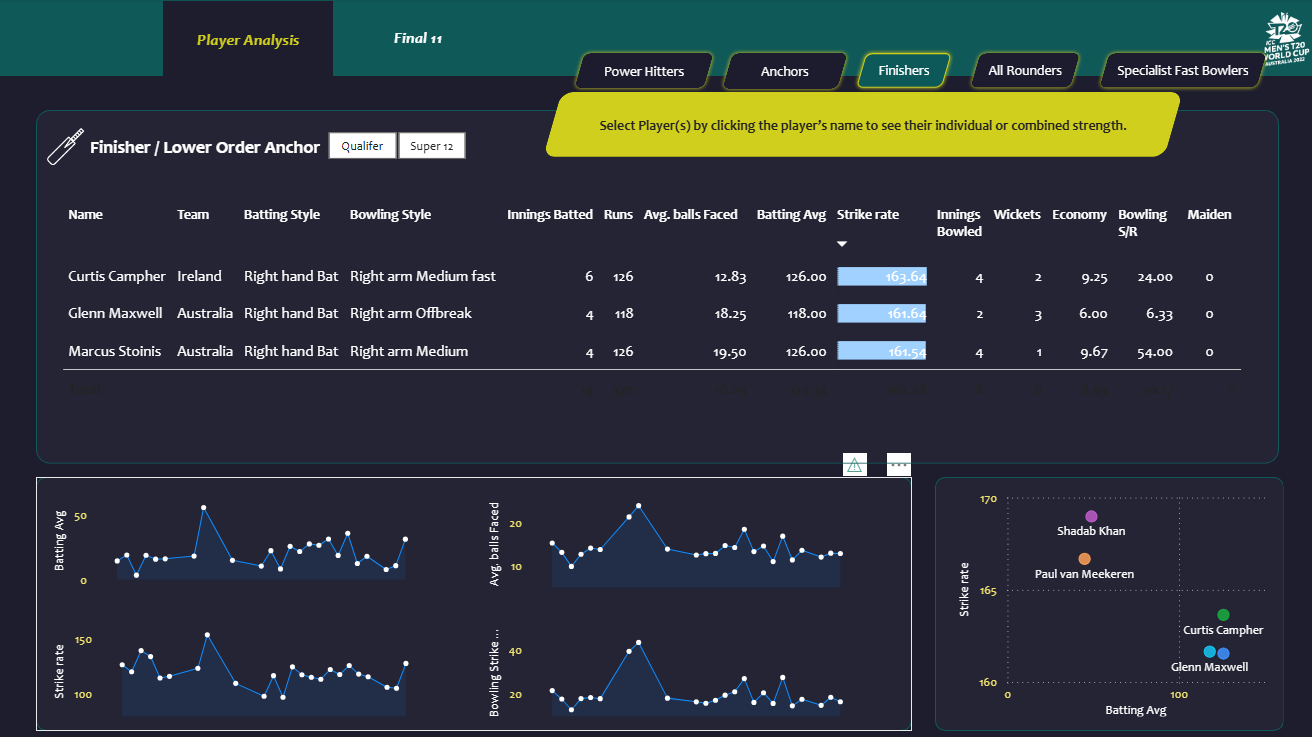

What the dashboard file says about the page in this screenshot:
{"tool":"powerbi","page":{"name":"Finisher / Lower Order Anchor","canvas":[1280,720],"ordinal":2},"visuals":[{"type":"shape","box":[0,75,1280,645],"z":0},{"type":"group","id":"g1","title":"Group 2","box":[90.8,127.2,260.2,31.2],"z":0,"group":"g2"},{"type":"shape","box":[90.8,127.2,260.2,31.2],"z":0,"group":"g1"},{"type":"image","box":[45,125,44,36],"z":1000,"group":"g2"},{"type":"shape","box":[38,465,852,247],"z":1000},{"type":"shape","box":[38,108,1209,344],"z":2000},{"type":"slicer","fields":{"Values":["dim_match_summary.stage"]},"box":[297,123,183,40],"z":3000},{"type":"group","id":"g2","title":"Group 1","box":[45,125,306,36],"z":4000},{"type":"shape","box":[531.1,90.5,622.5,63.2],"z":5000},{"type":"card","fields":{"Values":["key_measures.Batting Avg 2"]},"box":[755,103.8,107,59],"z":6000},{"type":"card","fields":{"Values":["key_measures.Boundary %"]},"box":[935,103.8,112,59],"z":7000},{"type":"card","fields":{"Values":["key_measures.Strike rate"]},"box":[834,103.8,121,59],"z":8000},{"type":"card","fields":{"Values":["key_measures.Avg. balls Faced"]},"box":[1034,103.8,99,59],"z":9000},{"type":"shape","box":[575,119,198,31],"z":10000},{"type":"actionButton","box":[557,48.8,144,42],"z":11000},{"type":"shape","box":[912.3,464.9,339.5,247.1],"z":12000},{"type":"areaChart","fields":{"Category":["dim_match_summary.matchDate.Variation.Date Hierarchy.Day"],"Y":["key_measures.Batting Avg"]},"box":[51,475,399,103],"z":13000},{"type":"areaChart","fields":{"Category":["dim_match_summary.matchDate.Variation.Date Hierarchy.Day"],"Y":["key_measures.Avg. balls Faced"]},"box":[474,475,399,103],"z":14000},{"type":"areaChart","fields":{"Category":["dim_match_summary.matchDate.Variation.Date Hierarchy.Day"],"Y":["key_measures.Strike rate"]},"box":[51,597,399,106],"z":15000},{"type":"areaChart","fields":{"Category":["dim_match_summary.matchDate.Variation.Date Hierarchy.Day"],"Y":["key_measures.Bowling Strike Rate"]},"box":[474,597,399,106],"z":16000},{"type":"image","box":[1228,10,48,59],"z":17000},{"type":"actionButton","title":"Button Player Ana selected","box":[161,2,166,75],"z":18000},{"type":"actionButton","title":"Button Player Ana selected","box":[327,0,166,75],"z":19000},{"type":"shape","box":[567.1,107,550.5,31.1],"z":20000},{"type":"actionButton","box":[831.5,48.9,101.1,41.7],"z":21000},{"type":"actionButton","box":[942.5,48.9,115.3,41.7],"z":22000},{"type":"actionButton","box":[1067.6,48.9,171.1,41.7],"z":23000},{"type":"actionButton","box":[701.3,48.6,130.3,42.8],"z":24000},{"type":"tableEx","fields":{"Values":["dim_players.name","dim_players.team","dim_players.battingStyle","dim_players.bowlingStyle","key_measures.Total Innings Batted","key_measures.Total Runs","key_measures.Avg. balls Faced","key_measures.Batting Avg","key_measures.Strike rate","key_measures.Total Innings Bowled","key_measures.wickets","key_measures.Economy"]},"box":[58.4,186.7,1170.1,248],"z":25000},{"type":"scatterChart","fields":{"Category":["dim_players.name"],"X":["key_measures.Batting Avg"],"Y":["key_measures.Strike rate"],"Series":["dim_players.name"]},"box":[930.8,470.8,316.1,232.5],"z":26000}]}

Visuals, with their boxes in screenshot pixels (x1, y1, x2, y2), scaled from the page's 1280x720 canvas onto the 1312x737 screenshot:
shape: (left=0, top=77, right=1311, bottom=736)
"Group 2" group: (left=93, top=130, right=360, bottom=162)
shape: (left=93, top=130, right=360, bottom=162)
image: (left=46, top=128, right=91, bottom=165)
shape: (left=39, top=476, right=912, bottom=729)
shape: (left=39, top=111, right=1278, bottom=463)
slicer - dim_match_summary.stage: (left=304, top=126, right=492, bottom=167)
"Group 1" group: (left=46, top=128, right=360, bottom=165)
shape: (left=544, top=93, right=1182, bottom=157)
card - key_measures.Batting Avg 2: (left=774, top=106, right=884, bottom=167)
card - key_measures.Boundary %: (left=958, top=106, right=1073, bottom=167)
card - key_measures.Strike rate: (left=855, top=106, right=979, bottom=167)
card - key_measures.Avg. balls Faced: (left=1060, top=106, right=1161, bottom=167)
shape: (left=589, top=122, right=792, bottom=154)
actionButton: (left=571, top=50, right=719, bottom=93)
shape: (left=935, top=476, right=1283, bottom=729)
areaChart - dim_match_summary.matchDate.Variation.Date Hierarchy.Day x key_measures.Batting Avg: (left=52, top=486, right=461, bottom=592)
areaChart - dim_match_summary.matchDate.Variation.Date Hierarchy.Day x key_measures.Avg. balls Faced: (left=486, top=486, right=895, bottom=592)
areaChart - dim_match_summary.matchDate.Variation.Date Hierarchy.Day x key_measures.Strike rate: (left=52, top=611, right=461, bottom=720)
areaChart - dim_match_summary.matchDate.Variation.Date Hierarchy.Day x key_measures.Bowling Strike Rate: (left=486, top=611, right=895, bottom=720)
image: (left=1259, top=10, right=1308, bottom=71)
"Button Player Ana selected" actionButton: (left=165, top=2, right=335, bottom=79)
"Button Player Ana selected" actionButton: (left=335, top=0, right=505, bottom=77)
shape: (left=581, top=110, right=1146, bottom=141)
actionButton: (left=852, top=50, right=956, bottom=93)
actionButton: (left=966, top=50, right=1084, bottom=93)
actionButton: (left=1094, top=50, right=1270, bottom=93)
actionButton: (left=719, top=50, right=852, bottom=94)
tableEx - dim_players.name x dim_players.team: (left=60, top=191, right=1259, bottom=445)
scatterChart - dim_players.name x key_measures.Batting Avg: (left=954, top=482, right=1278, bottom=720)
